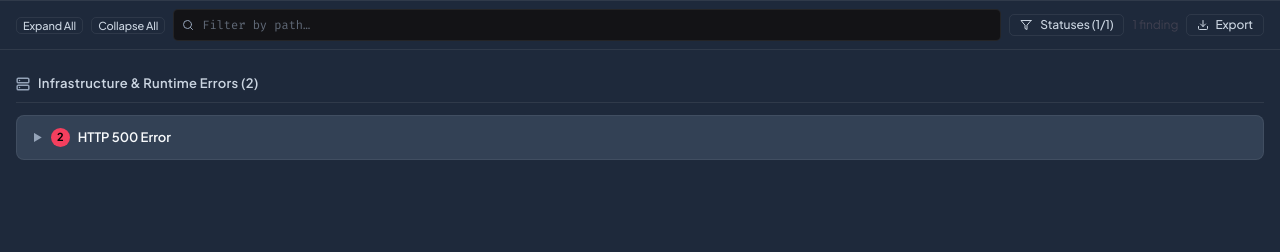
Test: Inspector Component › propagates triage status across deduplicated findings in the same cluster
Click the button "Expand All" at (50, 25), box [16,16,83,34]
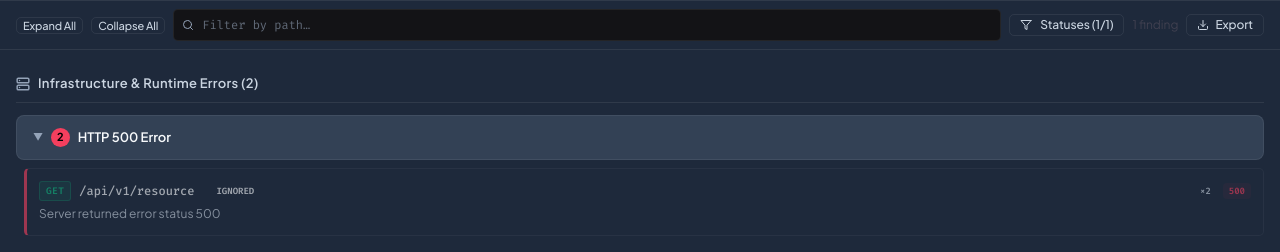
Check: the text "Ignored" is shown, box [216,185,254,197]
